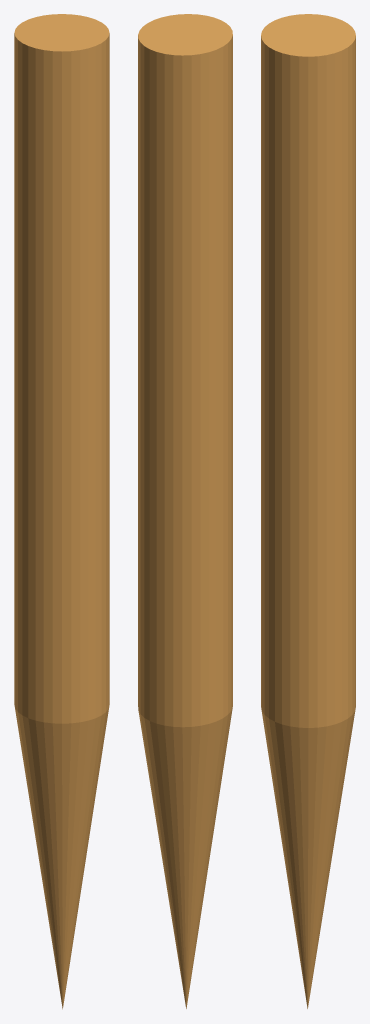
The model's file is stake.fbx.
3 views of the same model, side by side, from view 1: azimuth 90°, elevation 25°; view 2: azimuth 210°, elevation 25°; view 3: azimuth 270°, elevation 25° (orthographic).
Visible parts, largest first — view 1: Stake; view 2: Stake; view 3: Stake.
Part boxes in pixels (<box>): Stake: <box>14,14,109,1009</box>; Stake: <box>138,14,232,1008</box>; Stake: <box>261,14,355,1008</box>.
Bounding box in the file's own units: 58.52 × 664 × 58.55.
